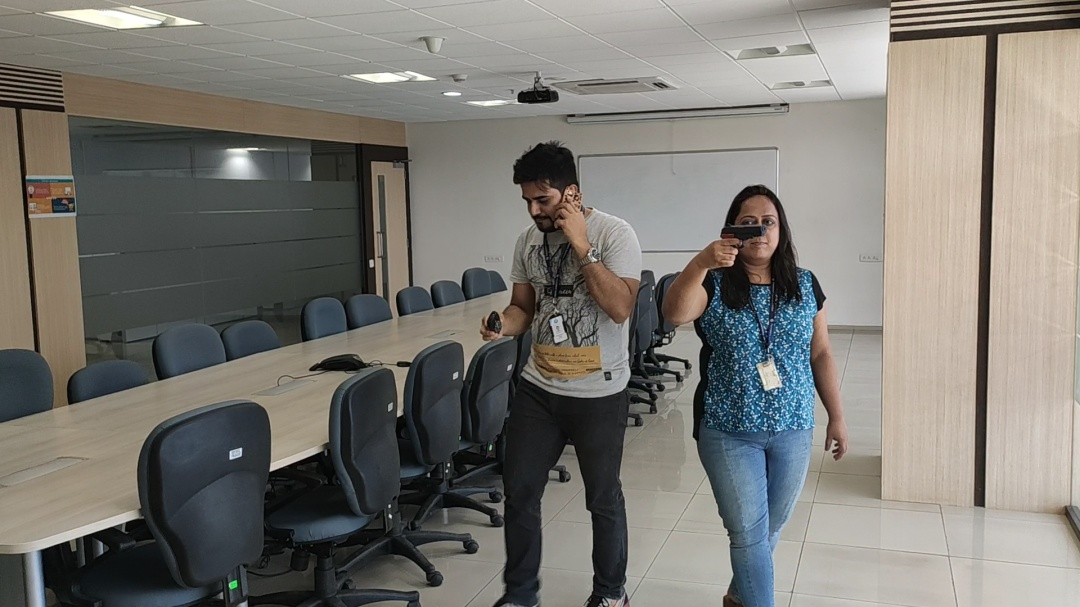gun: (720, 224, 768, 247)
